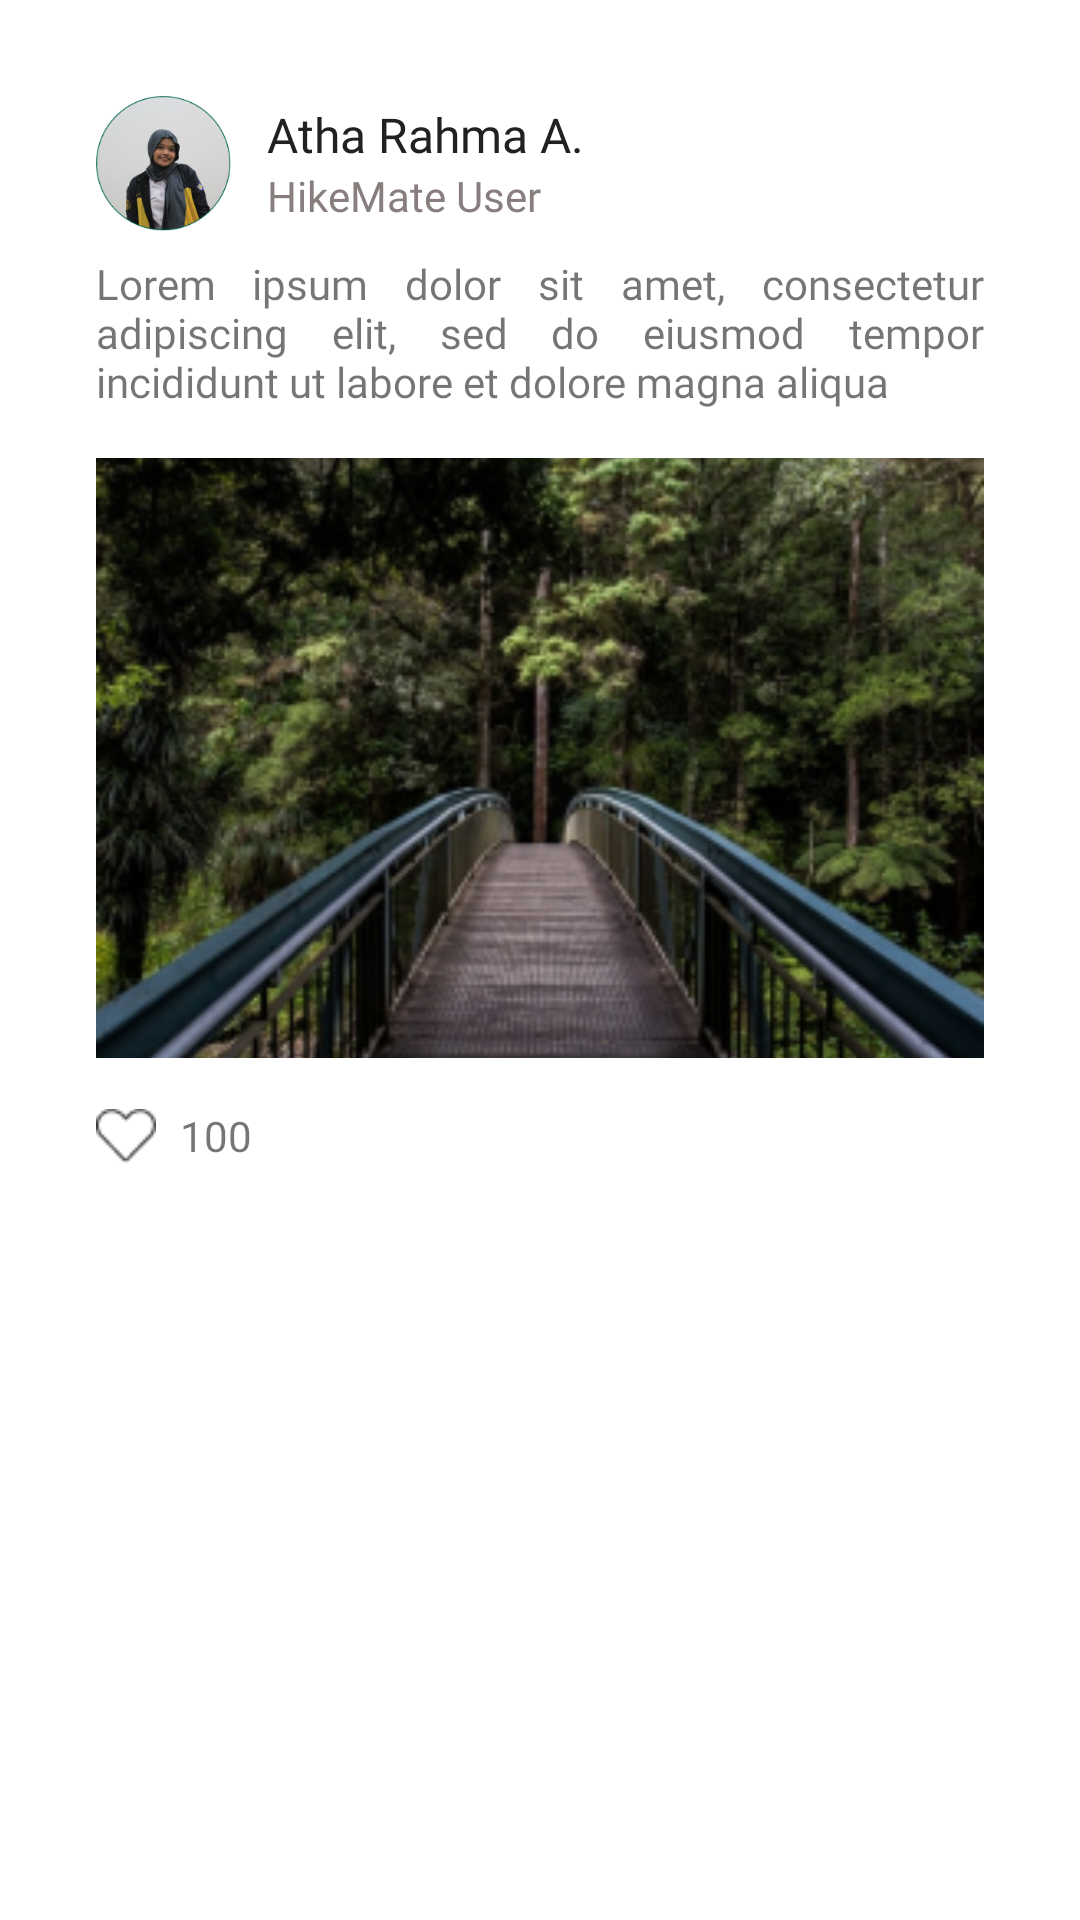

Where icons sit on this 1080 × 1920 app screen, as (x1=x1, y1=y1, x2=x2, y2=y2):
like: (x1=96, y1=1109, x2=156, y2=1163)
